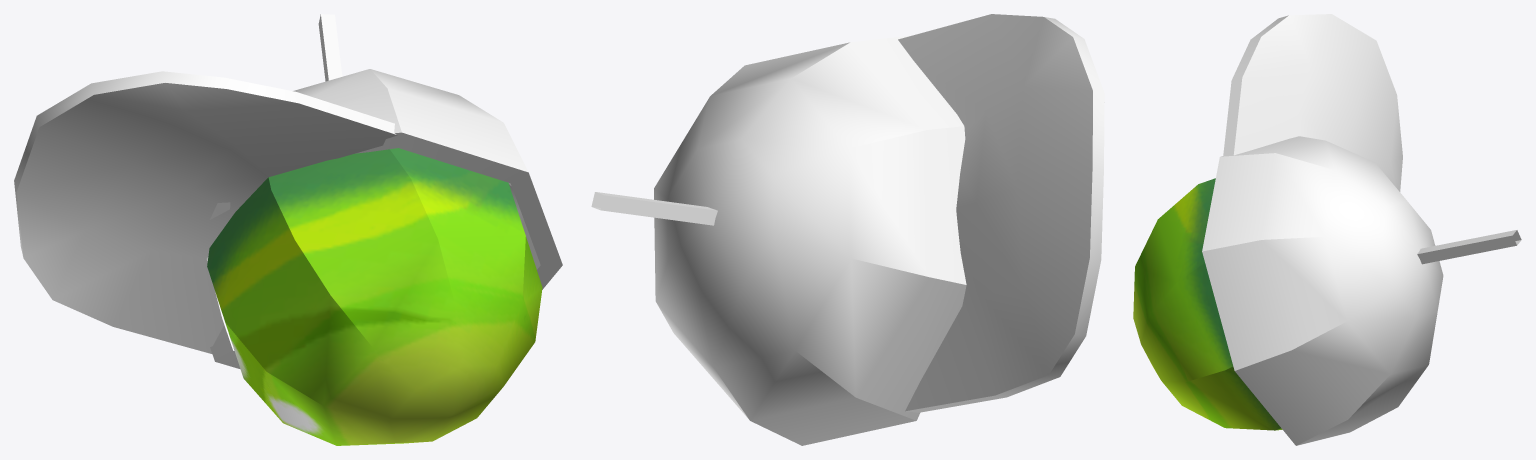
Rendered from rookieGreenPearlOriented.fbx.
3 renders of one model, left to right at view 1: azimuth 30°, elevation 25°; view 2: azimuth 150°, elevation 25°; view 3: azimuth 270°, elevation 25°, orthographic. The views are drawn at different scales.
Parts seen in each view (by area): view 1: rookieGreenPearlOriented; view 2: rookieGreenPearlOriented; view 3: rookieGreenPearlOriented.
Part boxes in pixels (x1,y1,x2,y2): rookieGreenPearlOriented: (14, 14, 562, 445); rookieGreenPearlOriented: (591, 14, 1104, 445); rookieGreenPearlOriented: (1133, 14, 1521, 445).
Size of the model in its own units: 56.22 by 47.58 by 50.53.
Materials: 1 (1 with a texture image).
